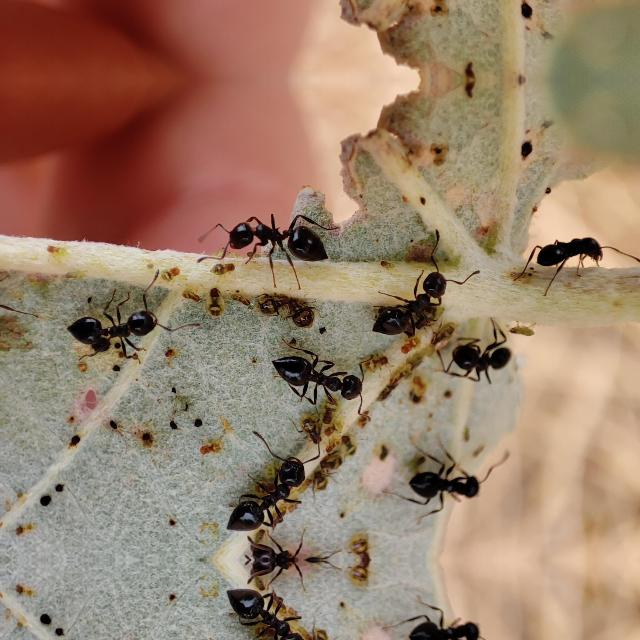Crematogaster: (256, 332, 370, 408), (226, 444, 318, 536), (389, 443, 503, 512), (216, 204, 330, 272), (370, 258, 454, 338), (422, 319, 518, 387), (63, 292, 157, 358), (226, 584, 318, 640), (528, 224, 610, 282), (389, 607, 503, 640), (237, 537, 355, 559), (237, 561, 355, 583)
